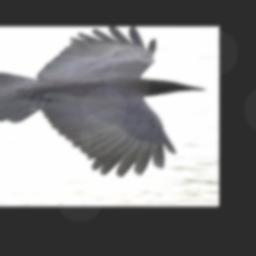Crow: (0, 26, 205, 176)
